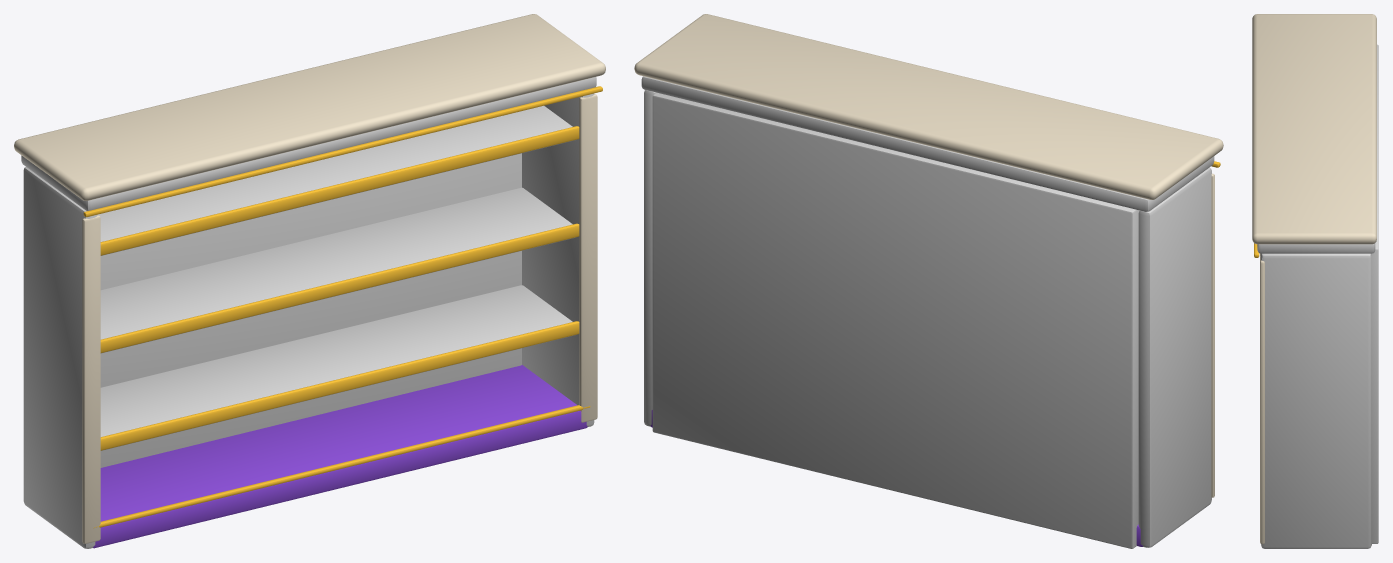
Rendered from PropWallShelf.fbx.
3 views of the same model, side by side, from view 1: azimuth 30°, elevation 25°; view 2: azimuth 150°, elevation 25°; view 3: azimuth 270°, elevation 25° (orthographic). The views are drawn at different scales.
Visible parts, largest first — view 1: White, Trim, Accent, Gold; view 2: White, Trim; view 3: White, Trim.
Part boxes in pixels (x1,y1,x2,y2): White: (21, 77, 596, 548); Trim: (14, 14, 605, 543); Accent: (93, 365, 587, 548); Gold: (83, 86, 602, 528); White: (641, 76, 1214, 548); Trim: (634, 14, 1223, 497); White: (1257, 44, 1378, 548); Trim: (1252, 14, 1376, 544).
Size of the model in its own units: 1520 by 1013 by 365.
